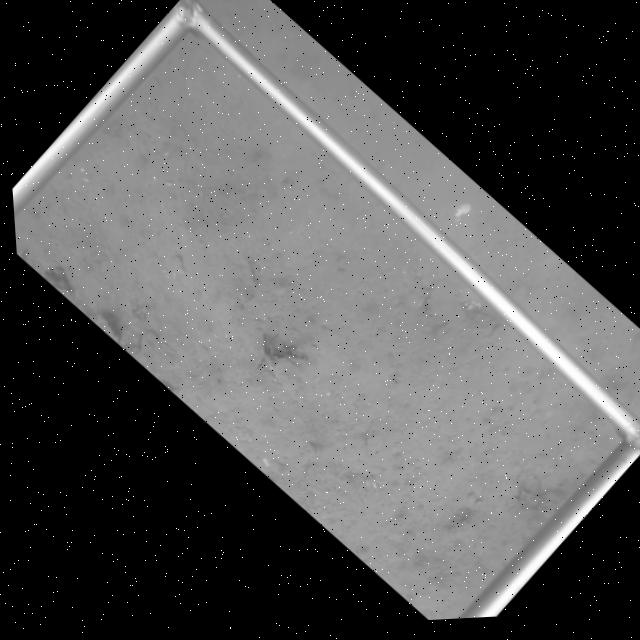Oyster-Indeterminate: (424, 276, 467, 324)
